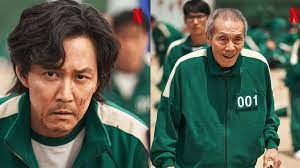without_mask: (25, 28, 96, 129), (212, 18, 243, 64)
